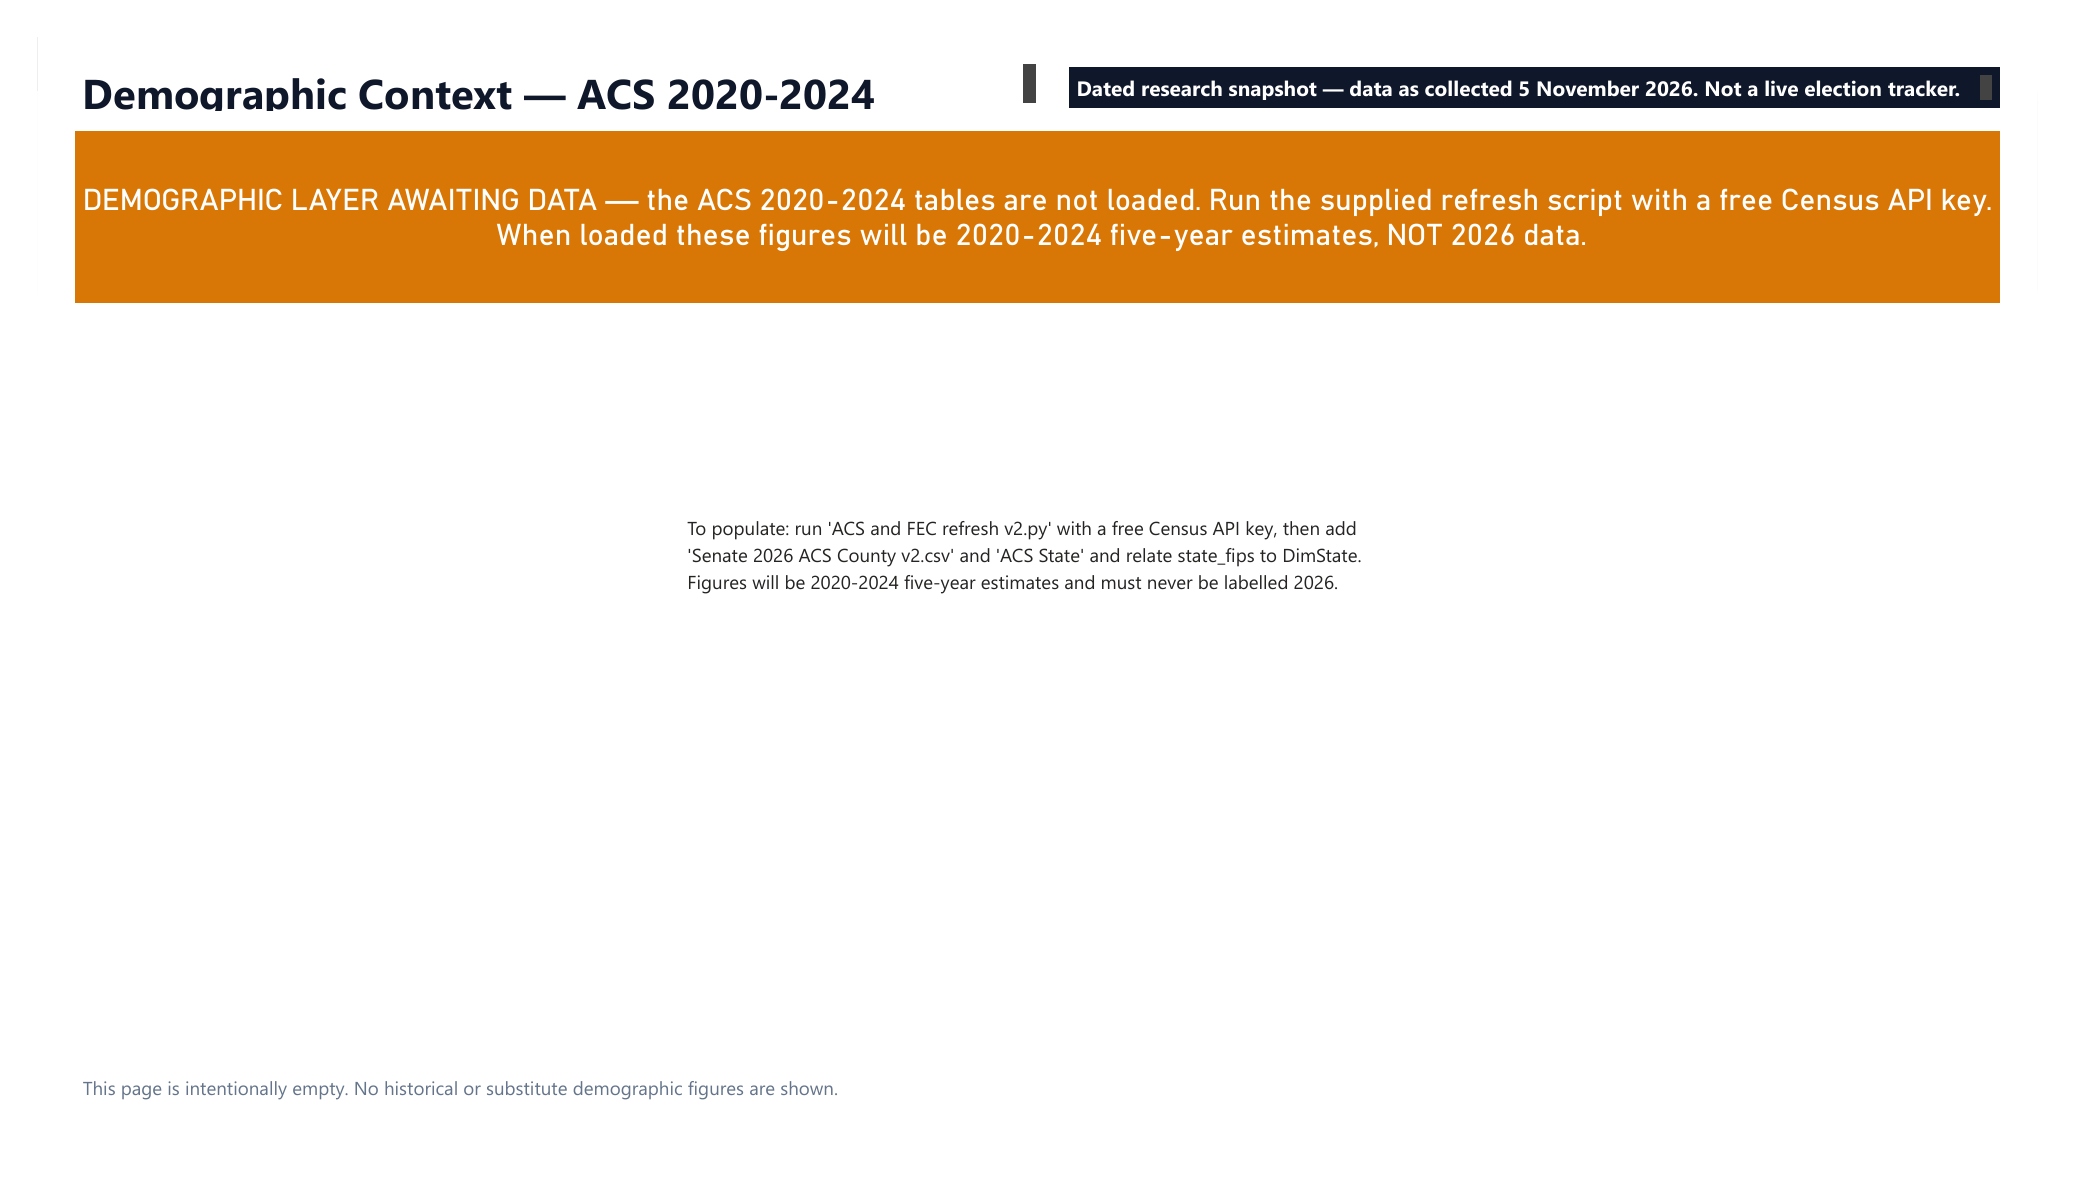

What the dashboard file says about the page in this screenshot:
{"tool":"powerbi","page":{"name":"Demographics (ACS 2020-2024) — AWAITING DATA","canvas":[1280,720],"ordinal":5},"visuals":[{"type":"textbox","box":[24,12,620,40],"z":0},{"type":"card","fields":{"Values":["_Measures.ACS Availability"]},"box":[24,60,1232,110],"z":1000},{"type":"textbox","box":[411.4,300,455.7,120],"z":8000},{"type":"textbox","box":[24,658,1232,48],"z":9000},{"type":"textbox","box":[660,18.6,596,26],"z":10000}]}

Visuals, with their boxes on the page's 1280x720 design canvas (x1, y1, x2, y2). These are canvas units, not pixel positions in the 2075x1200 screenshot, which may show the page scaled, cropped or inside an application window:
textbox: [24,12,644,52]
card - _Measures.ACS Availability: [24,60,1256,170]
textbox: [411,300,867,420]
textbox: [24,658,1256,706]
textbox: [660,19,1256,45]
